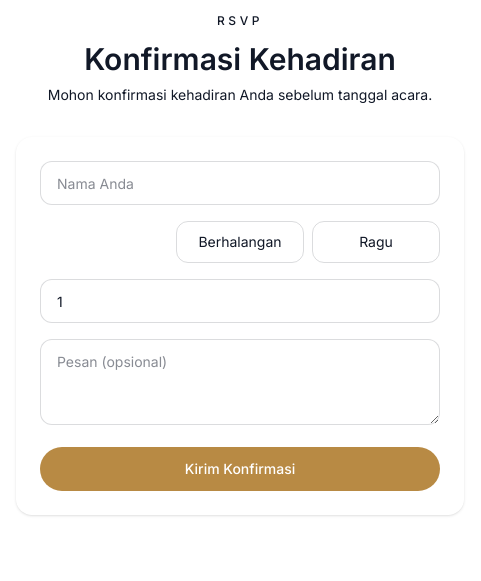
RsvpBlock › surfaces the API error message when submission fails
Type "Siti" into the field with placeholder "Nama Anda" at coordinates (240, 183), box top-left (40, 161), bottom-right (440, 205)
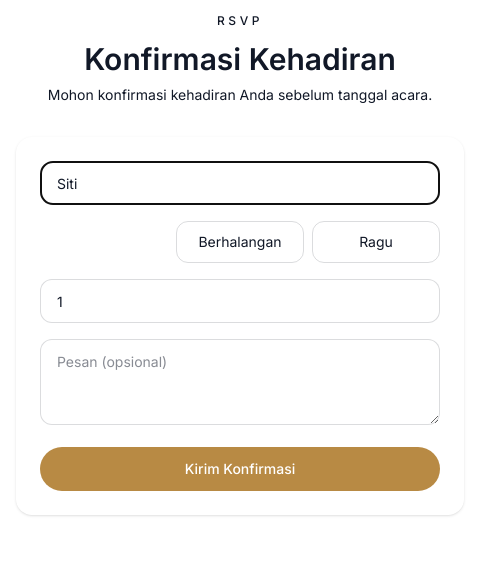
Click the button "Kirim Konfirmasi" at coordinates (240, 469), box top-left (40, 447), bottom-right (440, 491)
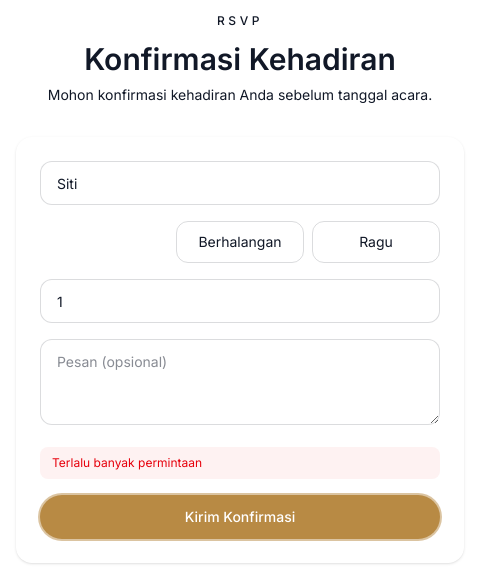
Check: the text "Terlalu banyak permintaan" is shown, box top-left (40, 447), bottom-right (440, 479)
